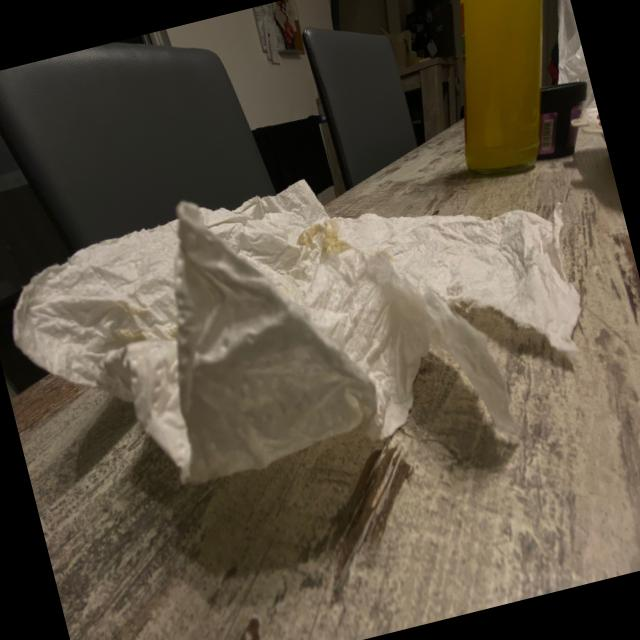organic waste: (0, 109, 622, 563)
